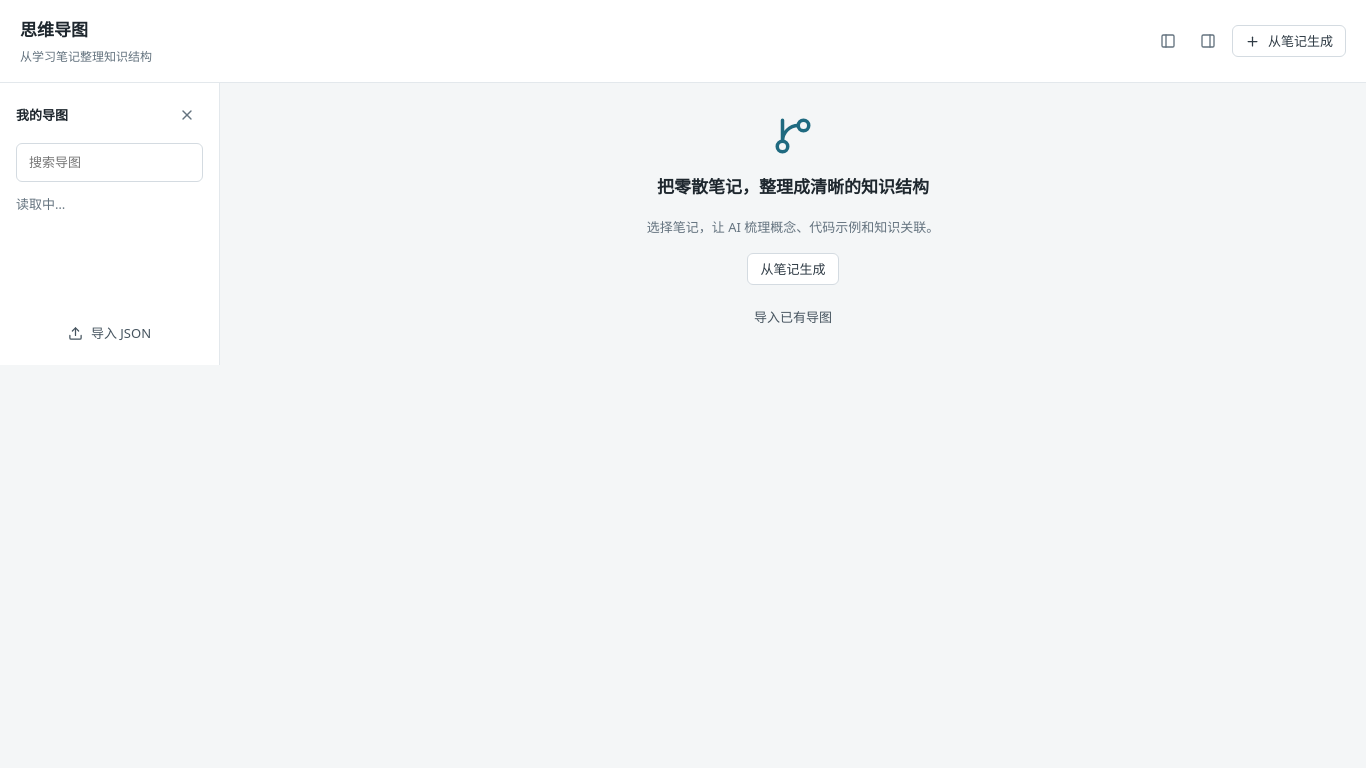
Test: mind map workbench › shows the empty state and scrollable generation configuration
Expected: the heading "把零散笔记，整理成清晰的知识结构" is shown, [657,173,929,201]
Click the button "从笔记生成" in the row of "从学习笔记整理知识结构" at (1289, 41), box [1232,25,1346,57]
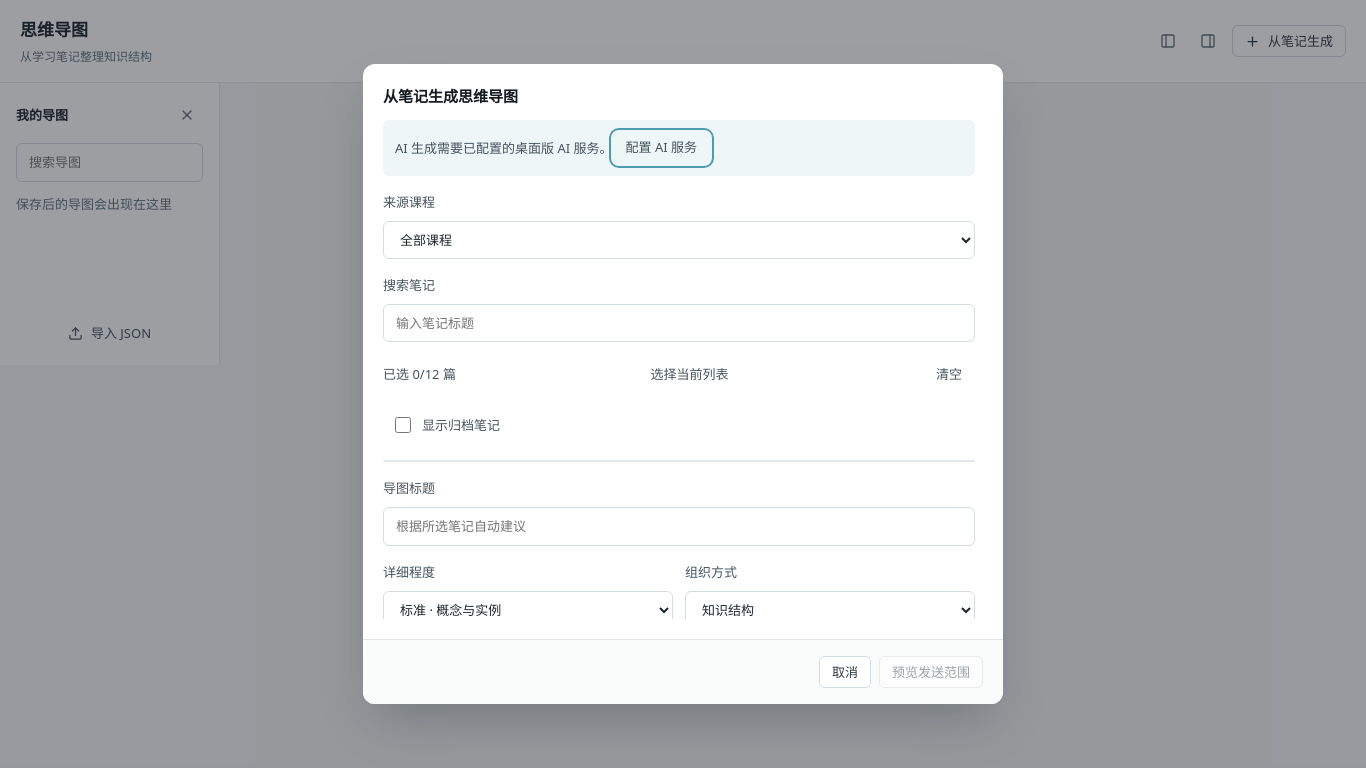
Expected: the dialog is shown, [363,64,1003,704]
Expected: the text "详细程度" is shown, [383,562,673,619]
